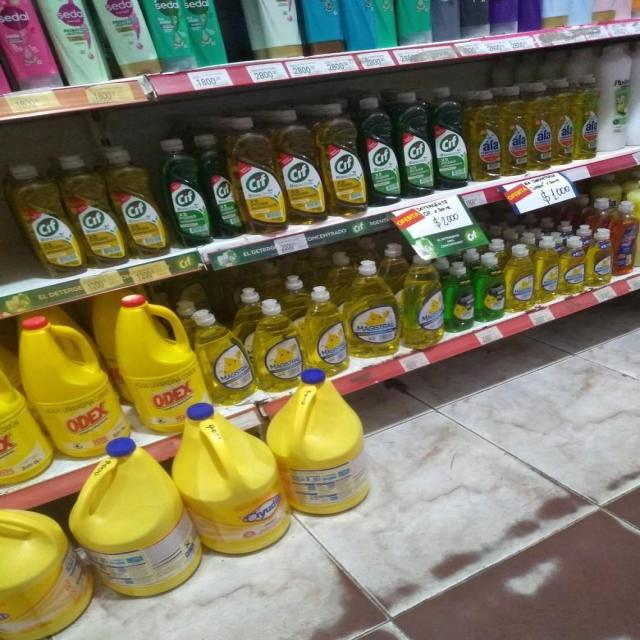ala_conc_amarillo: (469, 89, 500, 182), (501, 85, 528, 177), (528, 81, 552, 171), (575, 74, 598, 160), (553, 78, 574, 166)
cif_conc_bot_amarilla: (16, 161, 75, 278), (236, 116, 281, 235), (74, 153, 120, 269), (117, 148, 164, 260), (281, 109, 322, 228), (322, 102, 362, 218)
cif_conc_botella_verde: (164, 136, 207, 249), (364, 95, 398, 208), (398, 91, 432, 199), (433, 87, 467, 191), (206, 133, 237, 241)
magistral_con_amarillo: (348, 258, 399, 359), (200, 309, 253, 405), (254, 297, 302, 392), (403, 249, 443, 349), (304, 285, 346, 378), (506, 242, 534, 314), (536, 236, 558, 304), (560, 236, 585, 295), (588, 228, 612, 287)
